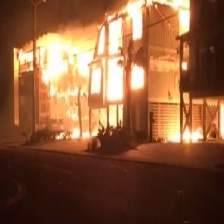fire: (17, 1, 222, 146)
